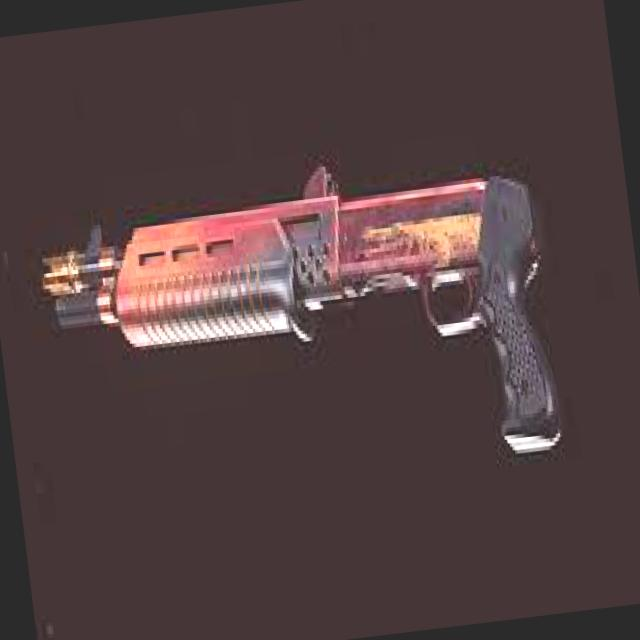long weapon: (22, 118, 585, 484)
